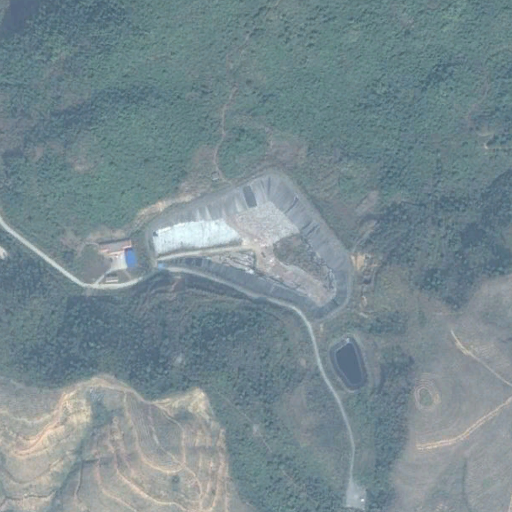lf: (145, 165, 352, 319)
